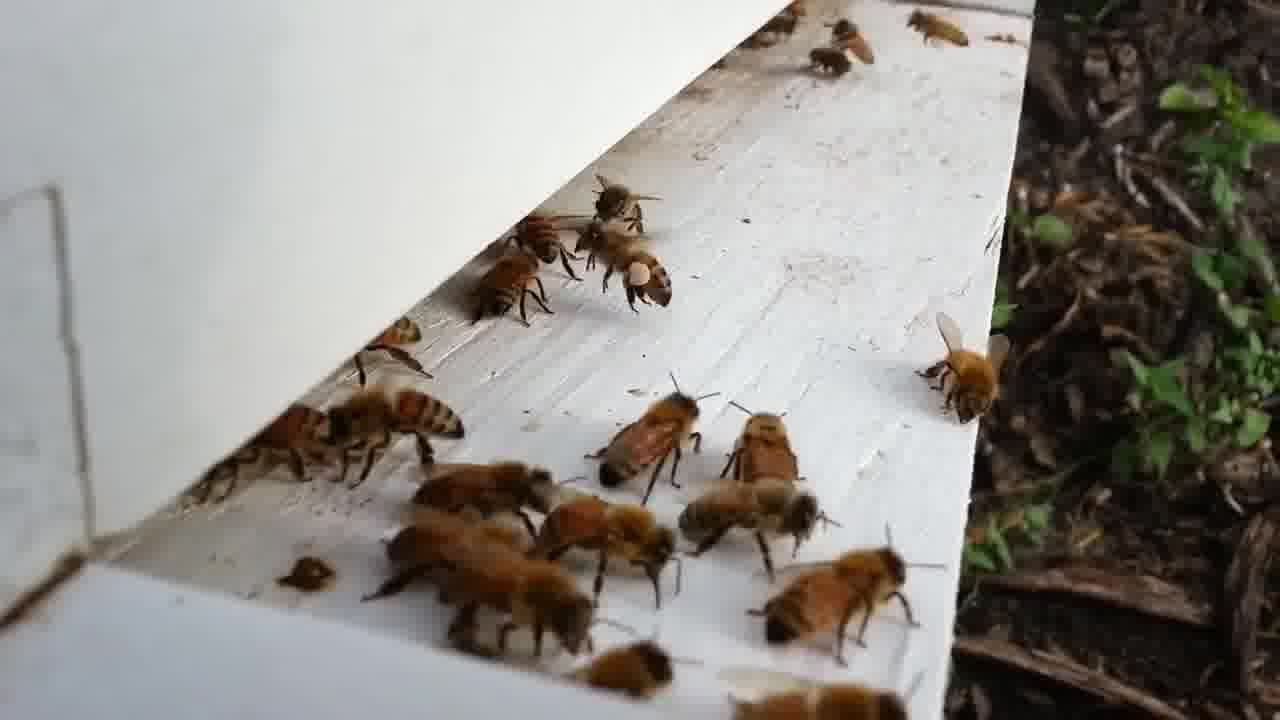pollen: (583, 220, 682, 319)
